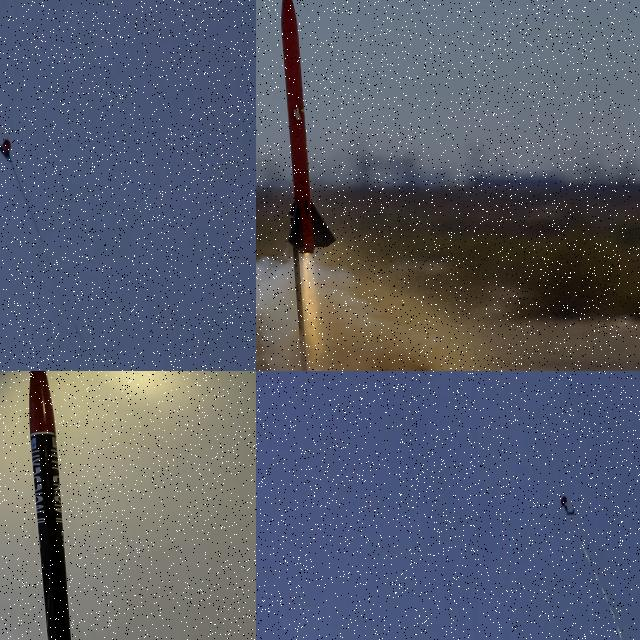Rocket: (280, 0, 337, 255), (29, 371, 71, 640)
